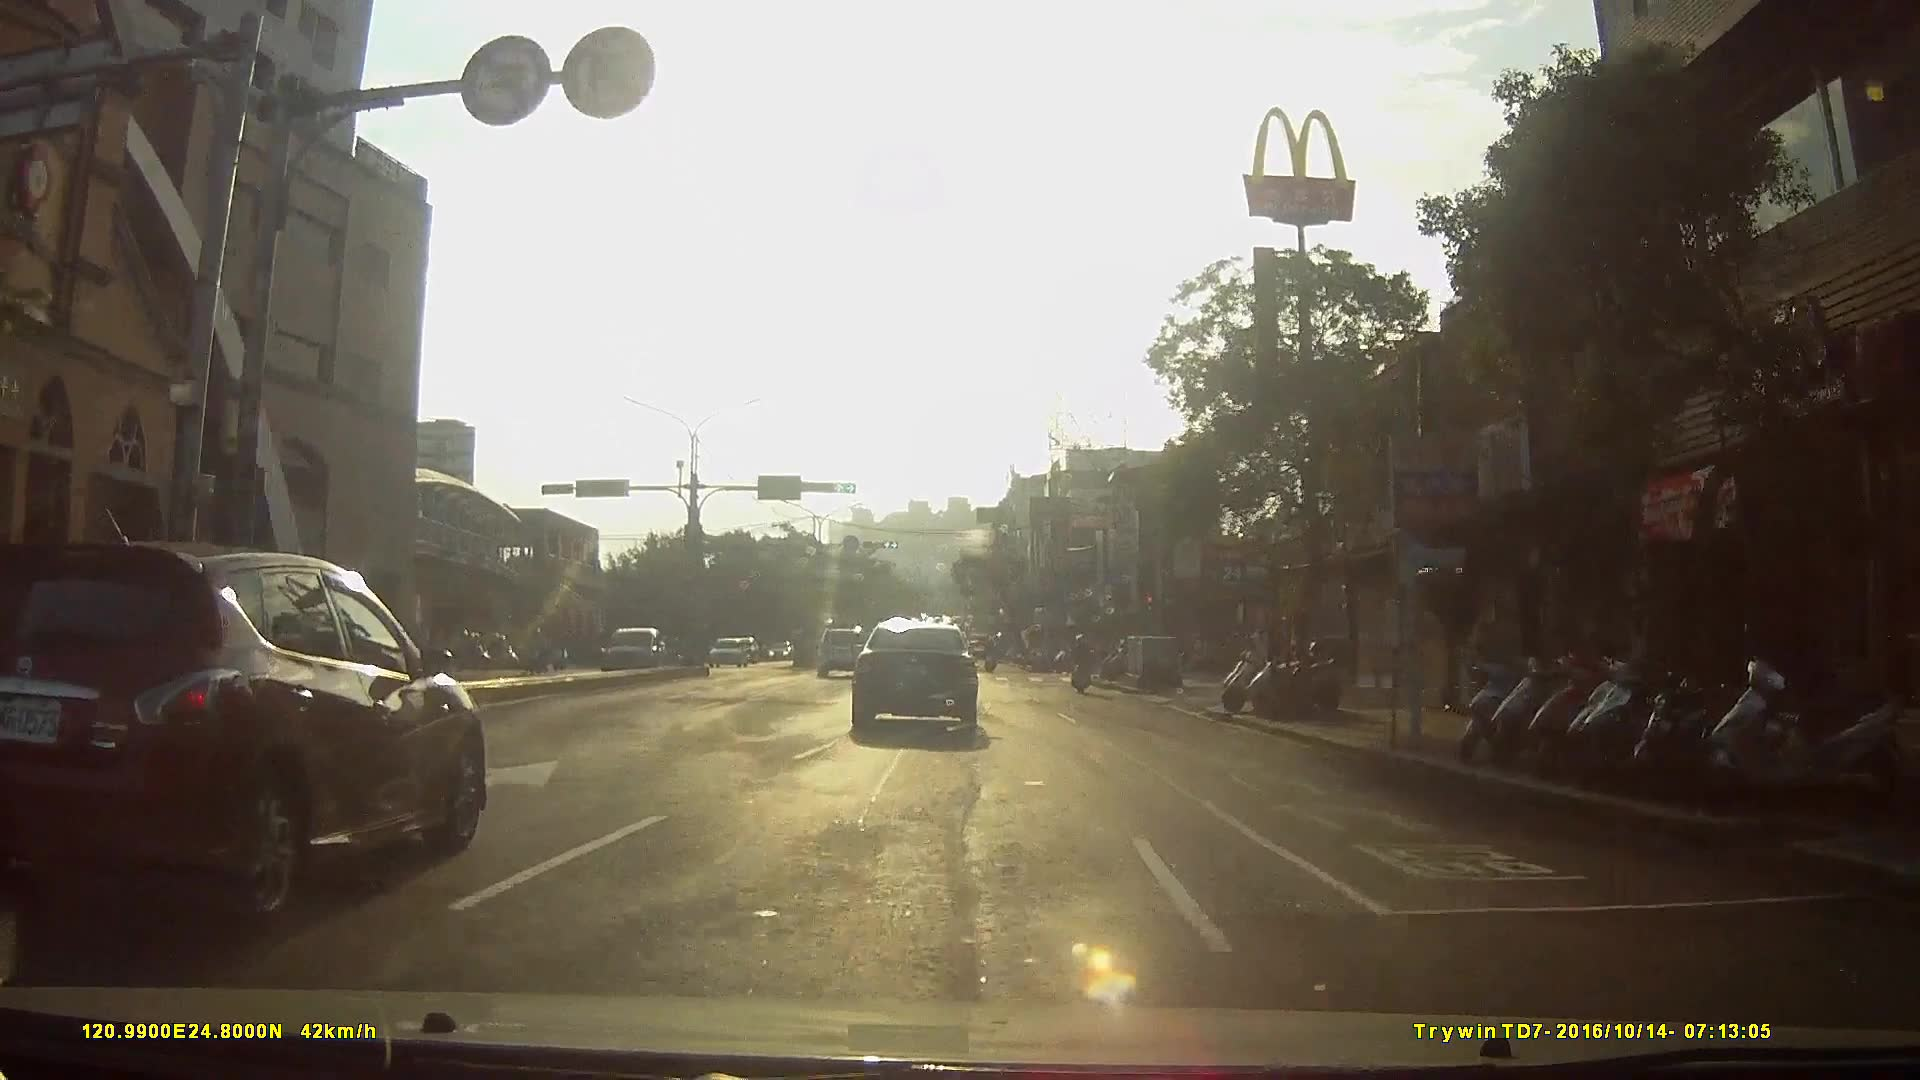rider: (1069, 629, 1094, 695), (981, 639, 1001, 675)
vehicle: (2, 530, 497, 933), (846, 610, 992, 734), (587, 622, 671, 675), (812, 624, 869, 679), (704, 633, 753, 670), (715, 634, 760, 664)
